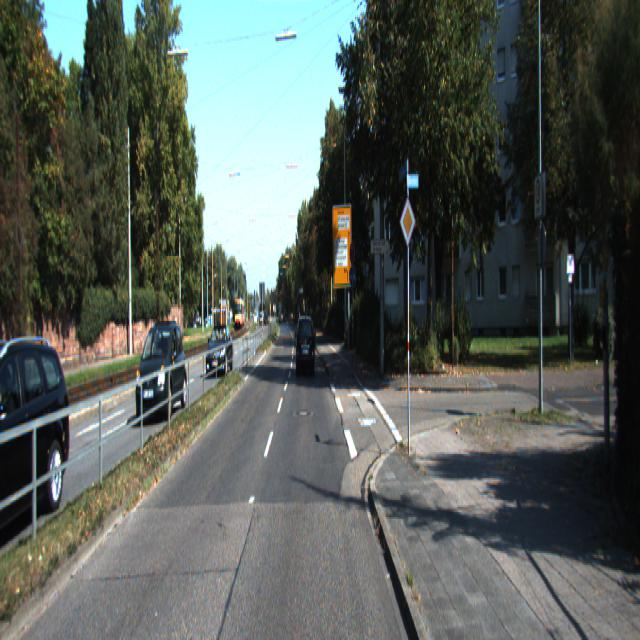Car: (0, 329, 73, 552), (136, 321, 188, 427), (206, 323, 234, 378), (296, 313, 316, 378)
